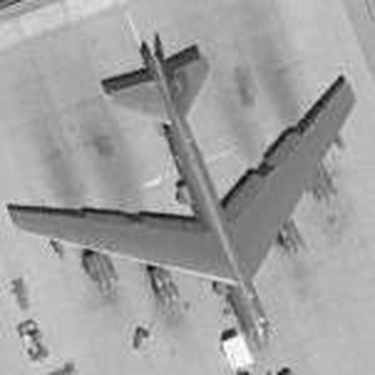airplane: (3, 32, 360, 356)
